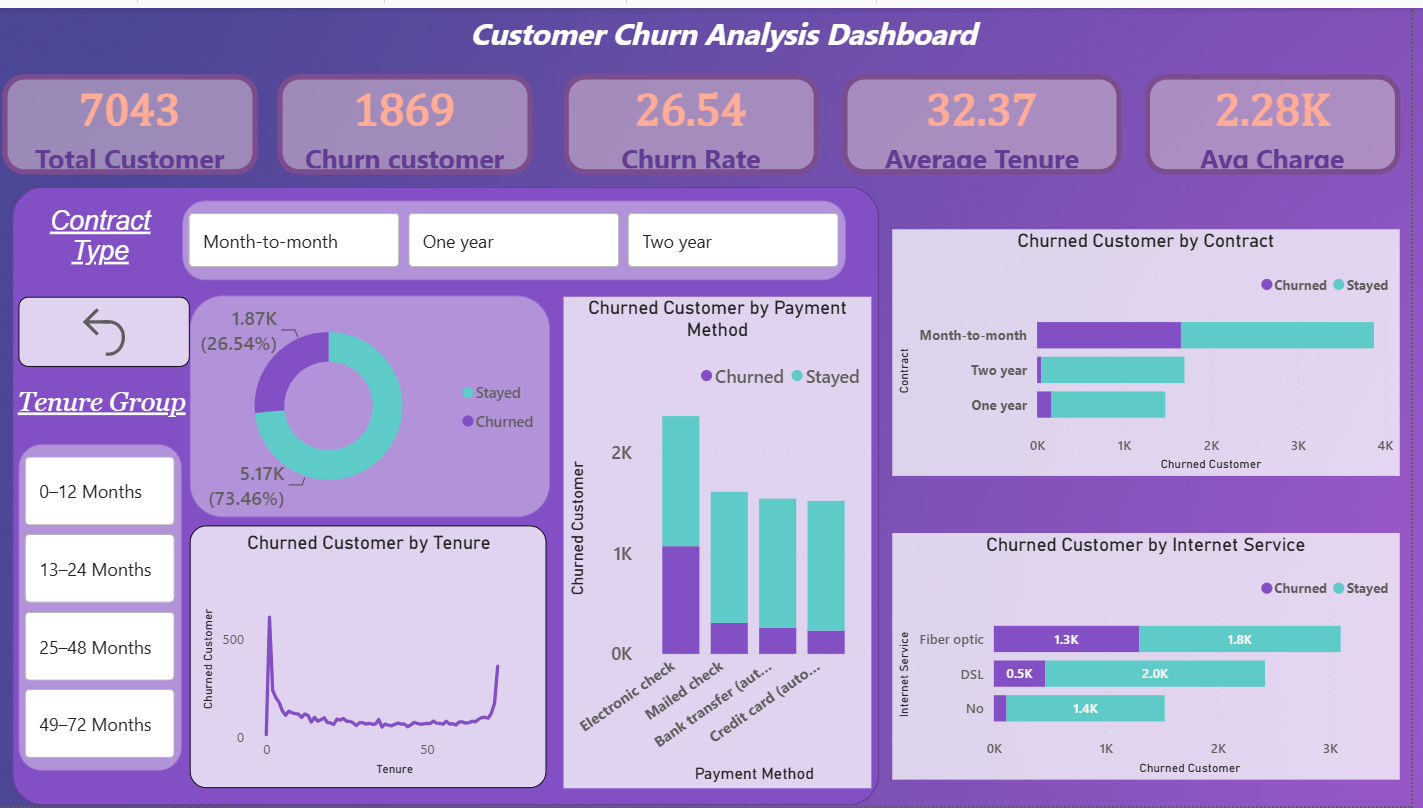

What the dashboard file says about the page in this screenshot:
{"tool":"powerbi","page":{"name":"Page 2","canvas":[1280,720],"ordinal":1},"visuals":[{"type":"shape","box":[19.1,161.6,781.5,557.7],"z":0},{"type":"card","title":"Churn rate","fields":{"Values":["cleaned_customer_churn.Total Customer"]},"box":[9.8,59.9,230,90],"z":1000},{"type":"card","title":"Churn rate","fields":{"Values":["cleaned_customer_churn.Average Monthly Charge"]},"box":[1040.6,59.9,230,90],"z":2000},{"type":"card","title":"Churn rate","fields":{"Values":["cleaned_customer_churn.Churn customer"]},"box":[258,59.9,230,90],"z":3000},{"type":"card","title":"Churn rate","fields":{"Values":["cleaned_customer_churn.Churn Rate"]},"box":[516,59.9,230,90],"z":4000},{"type":"donutChart","fields":{"Category":["cleaned_customer_churn.Churn"],"Y":["CountNonNull(cleaned_customer_churn.Customerid)"]},"box":[179.5,259.7,325,200],"z":5000},{"type":"lineChart","fields":{"Y":["CountNonNull(cleaned_customer_churn.Churn)"],"Category":["cleaned_customer_churn.Tenure"]},"box":[179.5,466.8,321.7,236.7],"z":6000},{"type":"textbox","box":[0,0,1280.6,50.3],"z":7000},{"type":"card","title":"Churn rate","fields":{"Values":["Avg(cleaned_customer_churn.Tenure)"]},"box":[767.9,59.9,251.9,90],"z":8000},{"type":"barChart","title":"Churned Customer by Contract ","fields":{"Category":["cleaned_customer_churn.Contract"],"Series":["cleaned_customer_churn.Churn"],"Y":["CountNonNull(cleaned_customer_churn.Churn)"]},"box":[812.6,199.9,457.3,222.6],"z":9000},{"type":"barChart","title":"Churned Customer by Internet Service ","fields":{"Series":["cleaned_customer_churn.Churn"],"Y":["CountNonNull(cleaned_customer_churn.Churn)"],"Category":["cleaned_customer_churn.Internetservice"]},"box":[812.6,473.9,457.3,222.6],"z":10000},{"type":"lineStackedColumnComboChart","title":"Churned Customer by Payment Method","fields":{"Category":["cleaned_customer_churn.Paymentmethod"],"Series":["cleaned_customer_churn.Churn"],"Y":["CountNonNull(cleaned_customer_churn.Churn)"]},"box":[515.8,260.9,277.7,442.8],"z":11000},{"type":"advancedSlicerVisual","fields":{"Values":["cleaned_customer_churn.tenure_group"]},"box":[25.1,393.8,147.2,294.4],"z":12000},{"type":"actionButton","title":"Reset","box":[25.1,260.9,154.4,63.4],"z":13000},{"type":"textbox","box":[19.1,336.3,172.3,47.9],"z":14000},{"type":"advancedSlicerVisual","fields":{"Values":["cleaned_customer_churn.Contract"]},"box":[172.3,173.5,598.4,71.8],"z":15000},{"type":"textbox","box":[25.1,173.5,147.2,71.8],"z":16000}]}

Visuals, with their boxes in screenshot pixels (x1, y1, x2, y2), scaled from the page's 1280x720 canvas onto the 1423x808 screenshot:
shape: bbox=[21, 181, 890, 807]
"Churn rate" card: bbox=[11, 67, 267, 168]
"Churn rate" card: bbox=[1157, 67, 1413, 168]
"Churn rate" card: bbox=[287, 67, 543, 168]
"Churn rate" card: bbox=[574, 67, 829, 168]
donutChart - cleaned_customer_churn.Churn x CountNonNull(cleaned_customer_churn.Customerid): bbox=[200, 291, 561, 516]
lineChart - CountNonNull(cleaned_customer_churn.Churn) x cleaned_customer_churn.Tenure: bbox=[200, 524, 557, 789]
textbox: bbox=[0, 0, 1422, 56]
"Churn rate" card: bbox=[854, 67, 1134, 168]
"Churned Customer by Contract " barChart: bbox=[903, 224, 1412, 474]
"Churned Customer by Internet Service " barChart: bbox=[903, 532, 1412, 782]
"Churned Customer by Payment Method" lineStackedColumnComboChart: bbox=[573, 293, 882, 790]
advancedSlicerVisual - cleaned_customer_churn.tenure_group: bbox=[28, 442, 192, 772]
"Reset" actionButton: bbox=[28, 293, 200, 364]
textbox: bbox=[21, 377, 213, 431]
advancedSlicerVisual - cleaned_customer_churn.Contract: bbox=[192, 195, 857, 275]
textbox: bbox=[28, 195, 192, 275]
